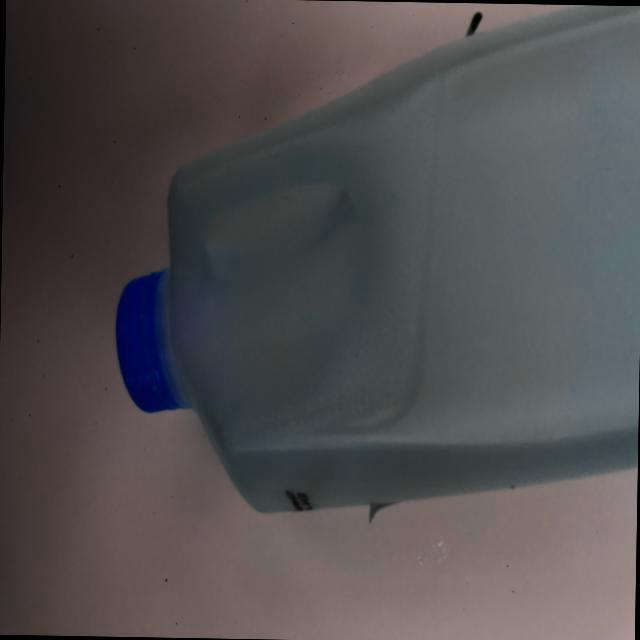plastic: (98, 0, 640, 534)
